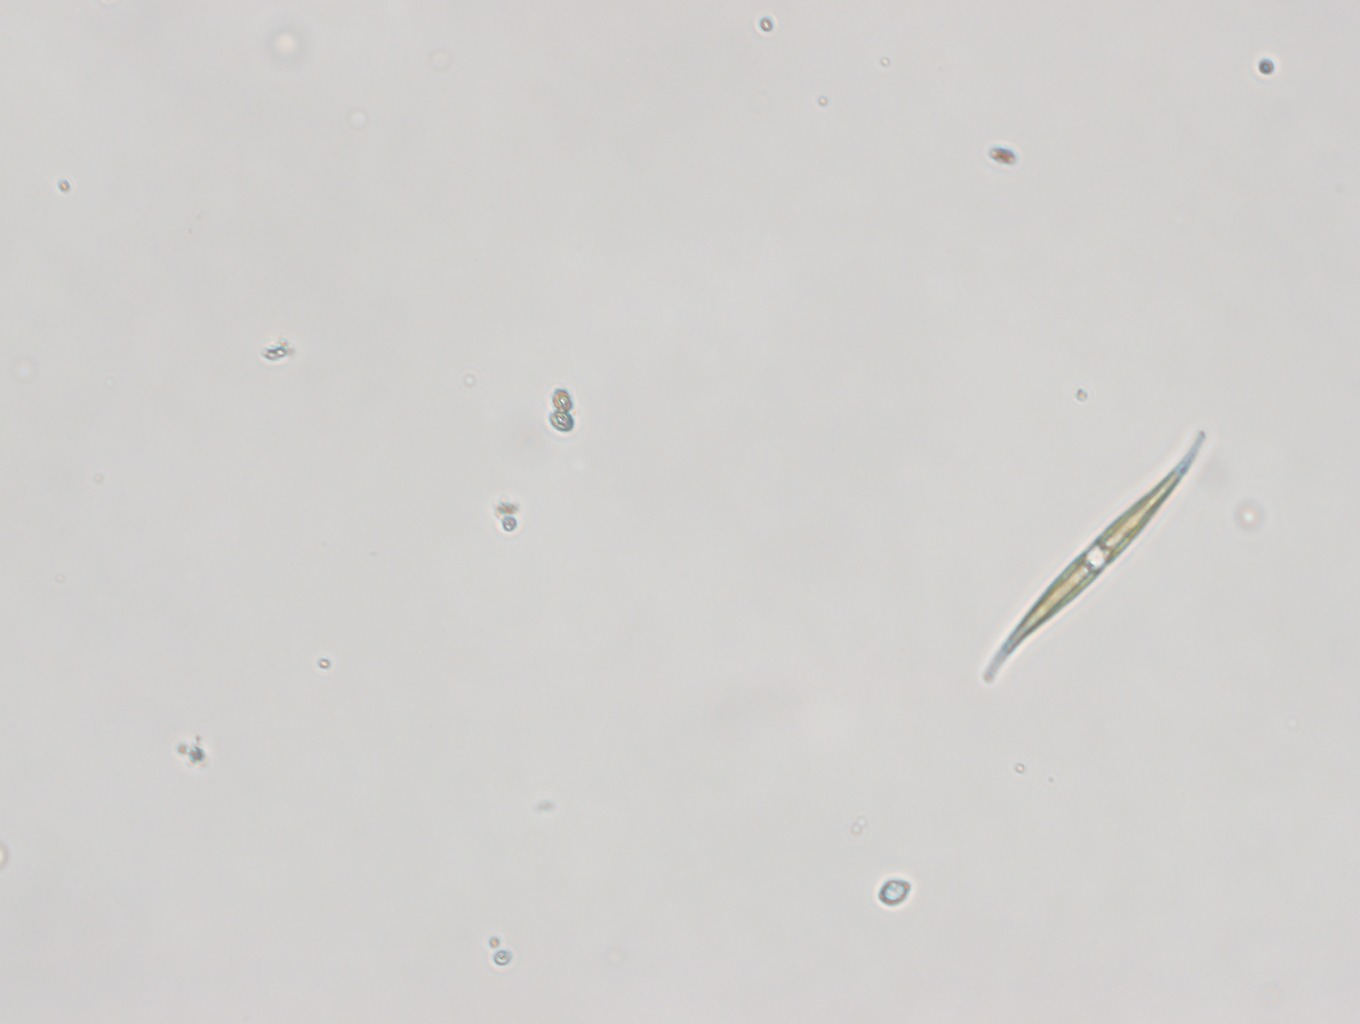pleurosigma pelagicum: (982, 427, 1200, 700)
